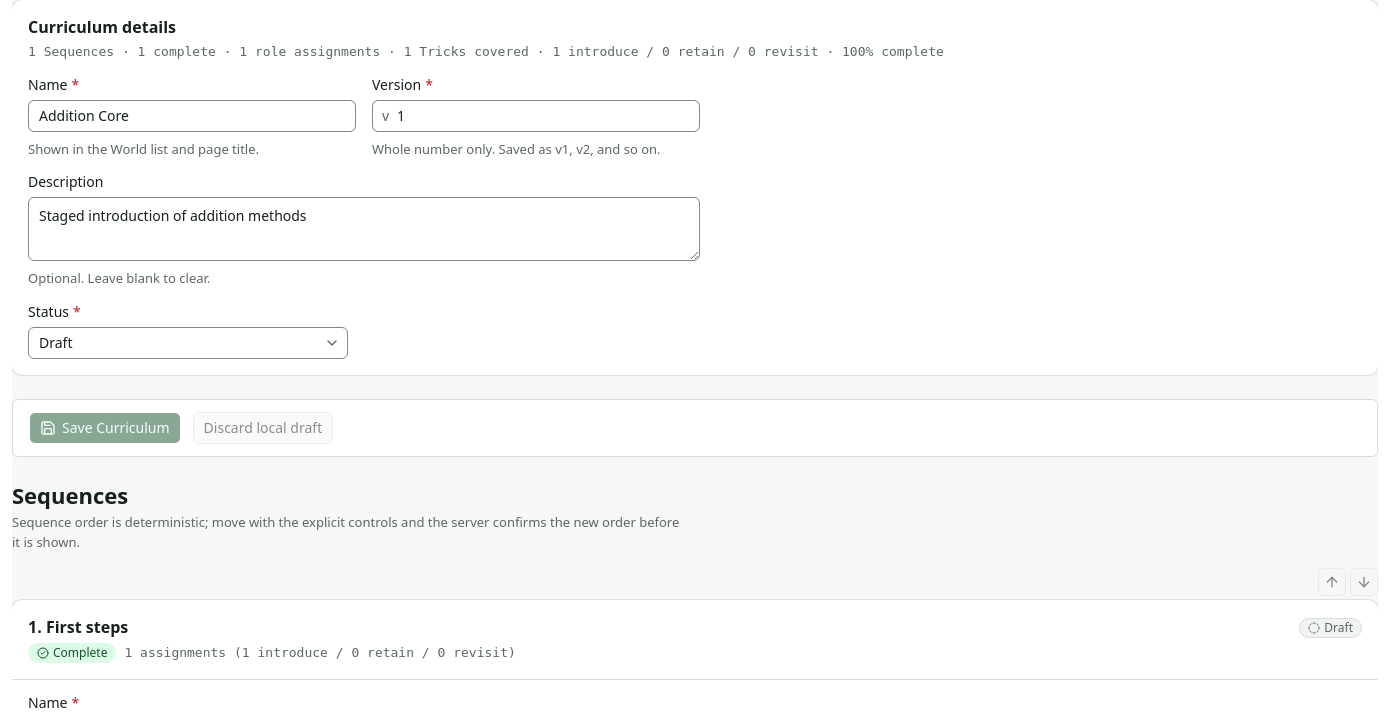
it: CurriculumBuilder › blocks saving an invalid version, shows the inline error, and focuses the field
Clear the field labelled "Version" at point(536, 116), box [372, 100, 700, 132]
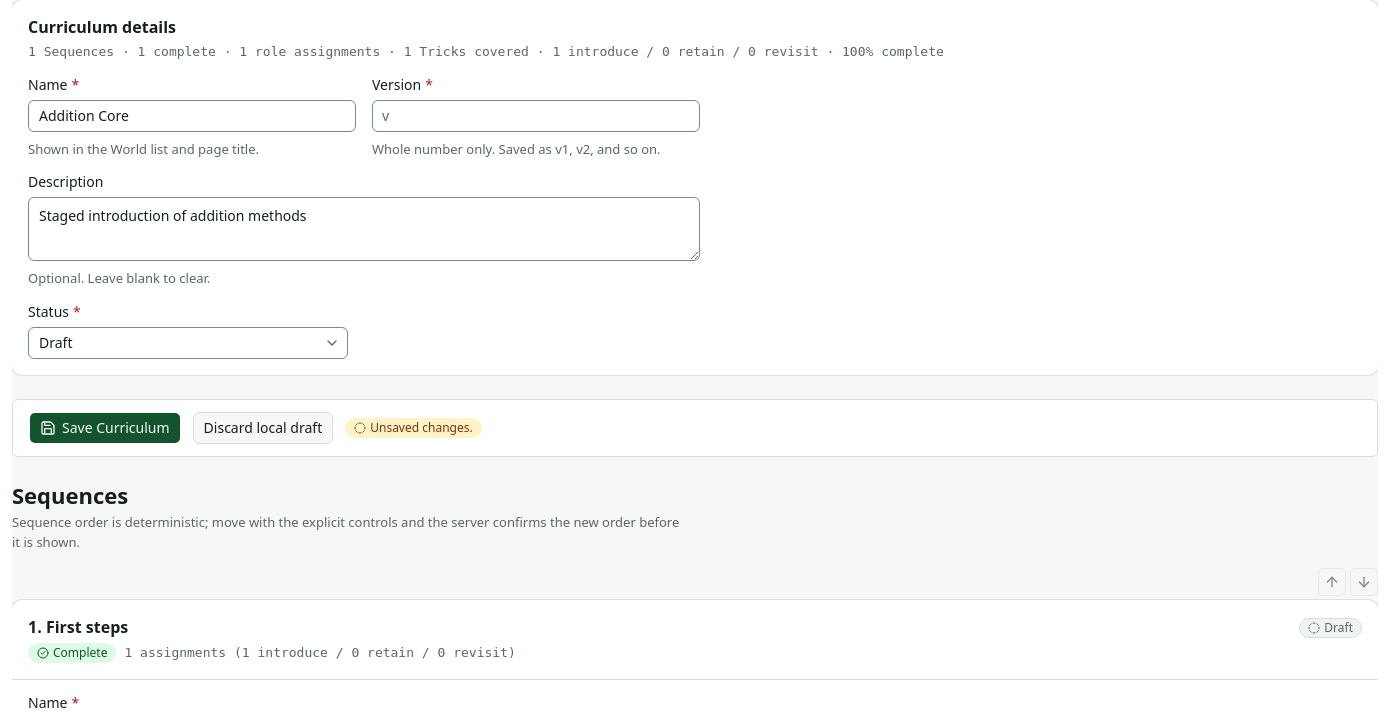
Click the button "Save Curriculum" at point(105, 428), box [29, 412, 181, 444]
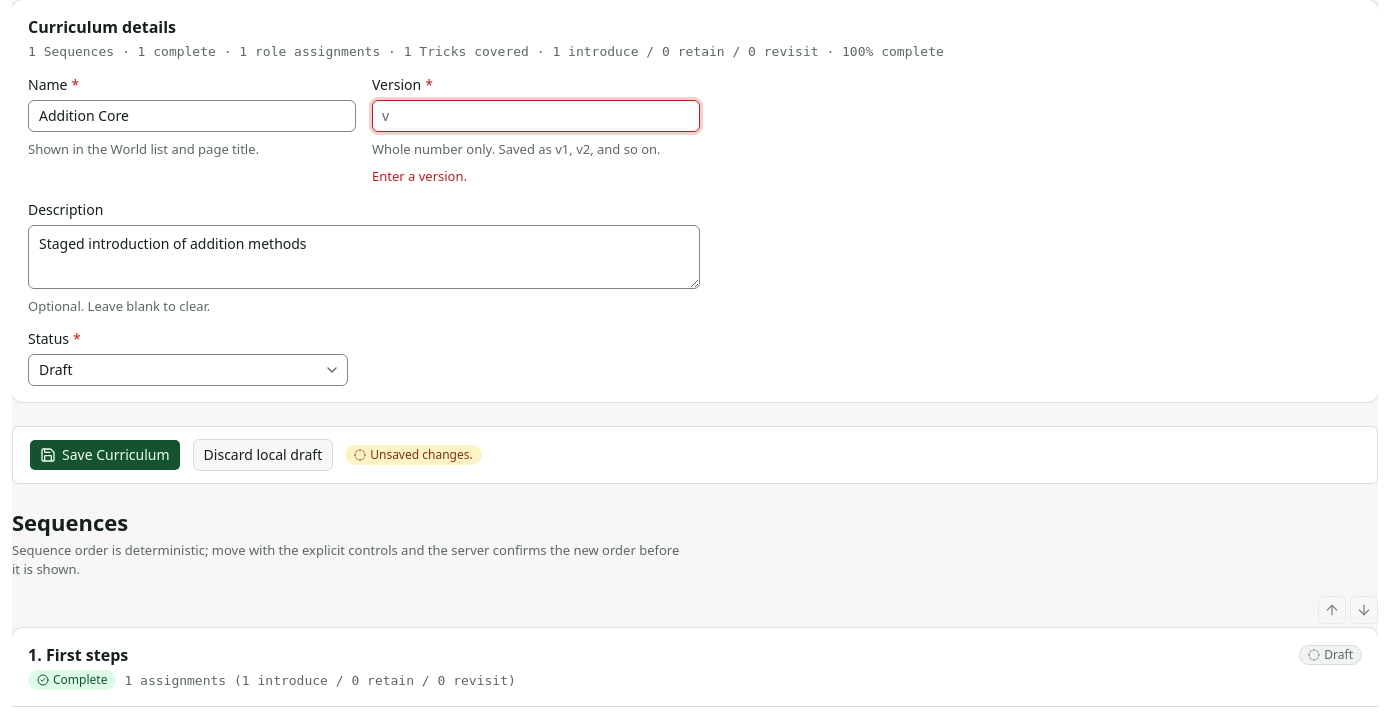
expect the text "Enter a version." is shown: met, box [372, 167, 467, 185]
